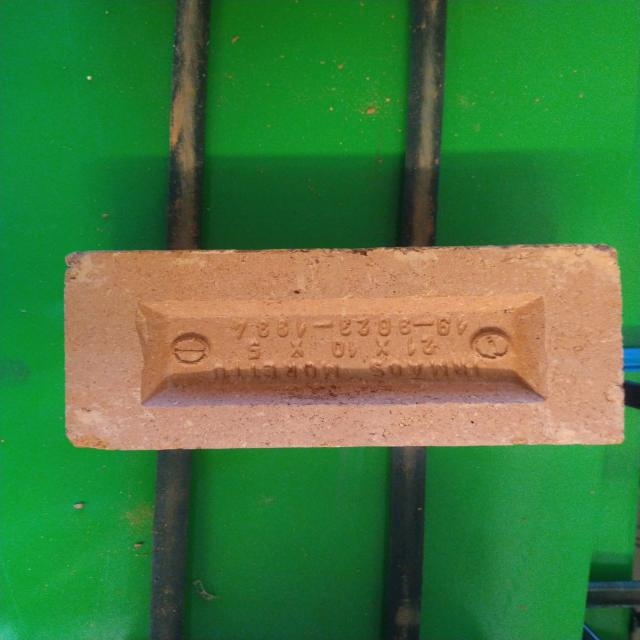bricks: (61, 243, 625, 450)
